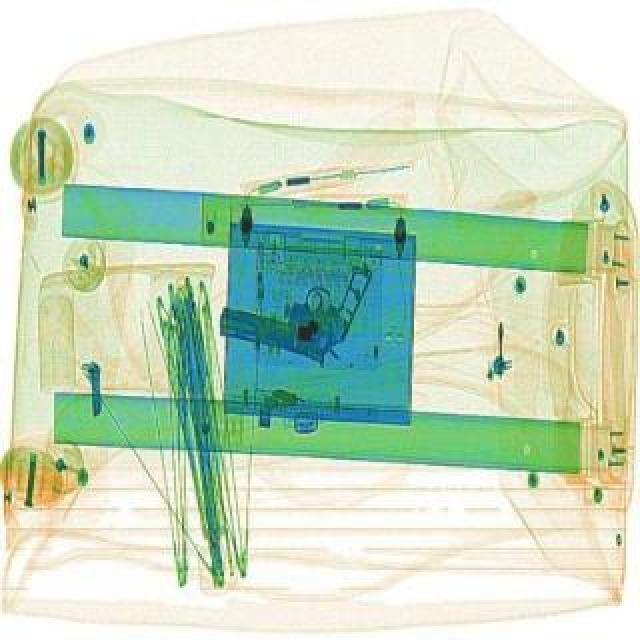gun: (212, 228, 376, 368)
